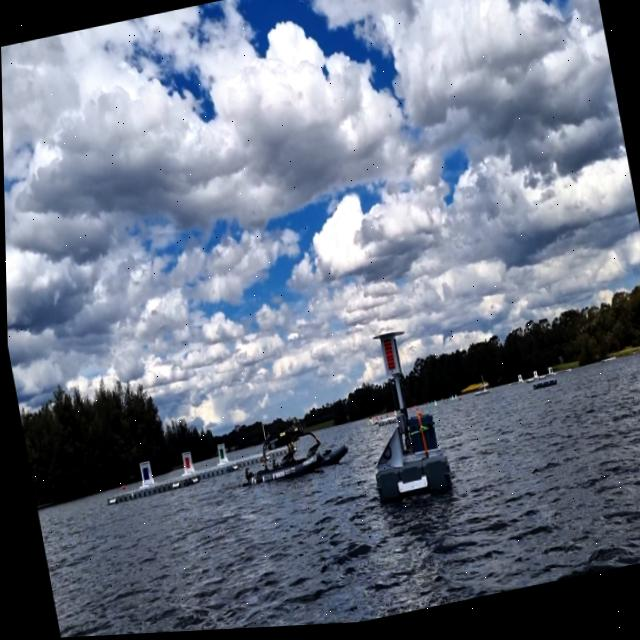led: (380, 340, 396, 376)
